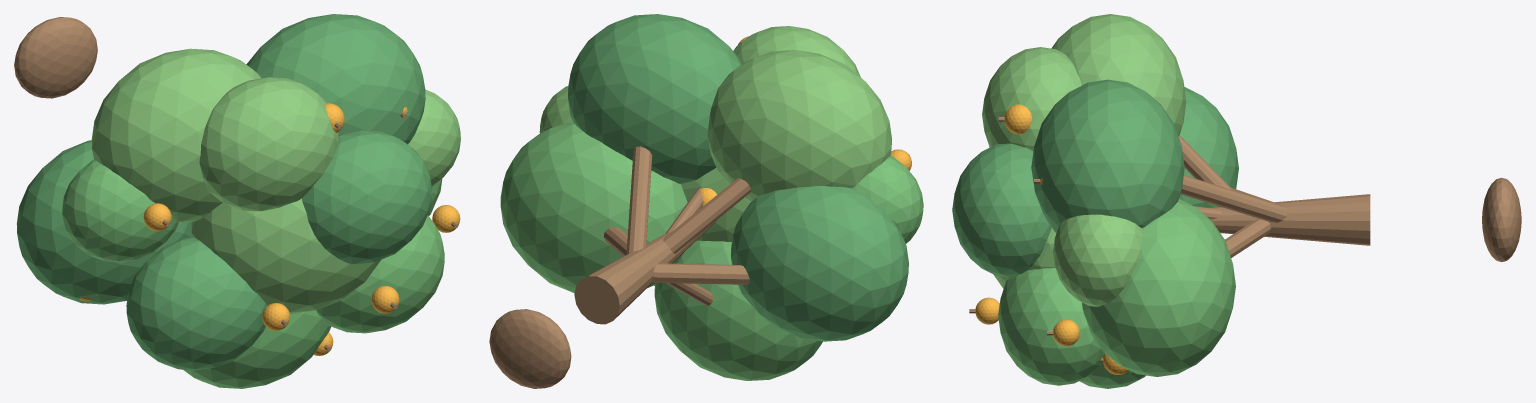
File: orange_tree.glb
The picture shows the model from 3 angles, left to right: view 1: azimuth 30°, elevation 25°; view 2: azimuth 150°, elevation 25°; view 3: azimuth 270°, elevation 25°; orthographic projection. The views are drawn at different scales.
Visible parts, largest first — view 1: FoliageCluster_03, FoliageCluster_09, FoliageCluster_04, FoliageCluster_07, FoliageCluster_10, FoliageCluster_06, FoliageCluster_01, FoliageCluster_11, FoliageCluster_08, RootFlare, FoliageCluster_05, FoliageCluster_12 (+4 smaller); view 2: FoliageCluster_01, FoliageCluster_03, FoliageCluster_04, FoliageCluster_02, FoliageCluster_05, RootFlare, OrangeTree_Trunk, FoliageCluster_11, FoliageCluster_09, ScaffoldBranch_4, ScaffoldBranch_3, ScaffoldBranch_1 (+5 smaller); view 3: FoliageCluster_04, FoliageCluster_02, FoliageCluster_10, FoliageCluster_08, FoliageCluster_03, FoliageCluster_12, FoliageCluster_09, OrangeTree_Trunk, FoliageCluster_01, RootFlare, ScaffoldBranch_4, ScaffoldBranch_3 (+6 smaller).
Part boxes in pixels (x1,y1,x2,y2): FoliageCluster_03: [91, 48, 261, 223]; FoliageCluster_09: [199, 77, 338, 211]; FoliageCluster_04: [246, 14, 425, 144]; FoliageCluster_07: [126, 237, 266, 370]; FoliageCluster_10: [302, 130, 432, 264]; FoliageCluster_06: [191, 198, 381, 313]; FoliageCluster_01: [16, 140, 192, 304]; FoliageCluster_11: [62, 159, 178, 262]; FoliageCluster_08: [316, 215, 444, 333]; RootFlare: [14, 17, 97, 98]; FoliageCluster_05: [183, 310, 330, 388]; FoliageCluster_12: [408, 89, 460, 186]; FoliageCluster_01: [731, 185, 908, 341]; FoliageCluster_03: [707, 50, 891, 202]; FoliageCluster_04: [568, 14, 741, 184]; FoliageCluster_02: [500, 122, 687, 293]; FoliageCluster_05: [654, 240, 822, 380]; RootFlare: [489, 309, 571, 388]; OrangeTree_Trunk: [574, 220, 716, 324]; FoliageCluster_11: [852, 155, 923, 243]; FoliageCluster_09: [733, 26, 860, 77]; ScaffoldBranch_4: [626, 146, 652, 254]; ScaffoldBranch_3: [663, 178, 750, 253]; ScaffoldBranch_1: [652, 263, 749, 284]; FoliageCluster_04: [1031, 79, 1184, 232]; FoliageCluster_02: [1082, 199, 1235, 376]; FoliageCluster_10: [952, 143, 1051, 277]; FoliageCluster_08: [998, 268, 1104, 385]; FoliageCluster_03: [1051, 14, 1186, 136]; FoliageCluster_12: [1053, 214, 1142, 306]; FoliageCluster_09: [982, 47, 1081, 150]; OrangeTree_Trunk: [1209, 194, 1370, 245]; FoliageCluster_01: [1179, 87, 1238, 207]; RootFlare: [1482, 177, 1521, 261]; ScaffoldBranch_4: [1180, 175, 1287, 222]; ScaffoldBranch_3: [1178, 135, 1233, 190].
Size of the model in its own units: 3.5 by 2.8 by 4.4.
